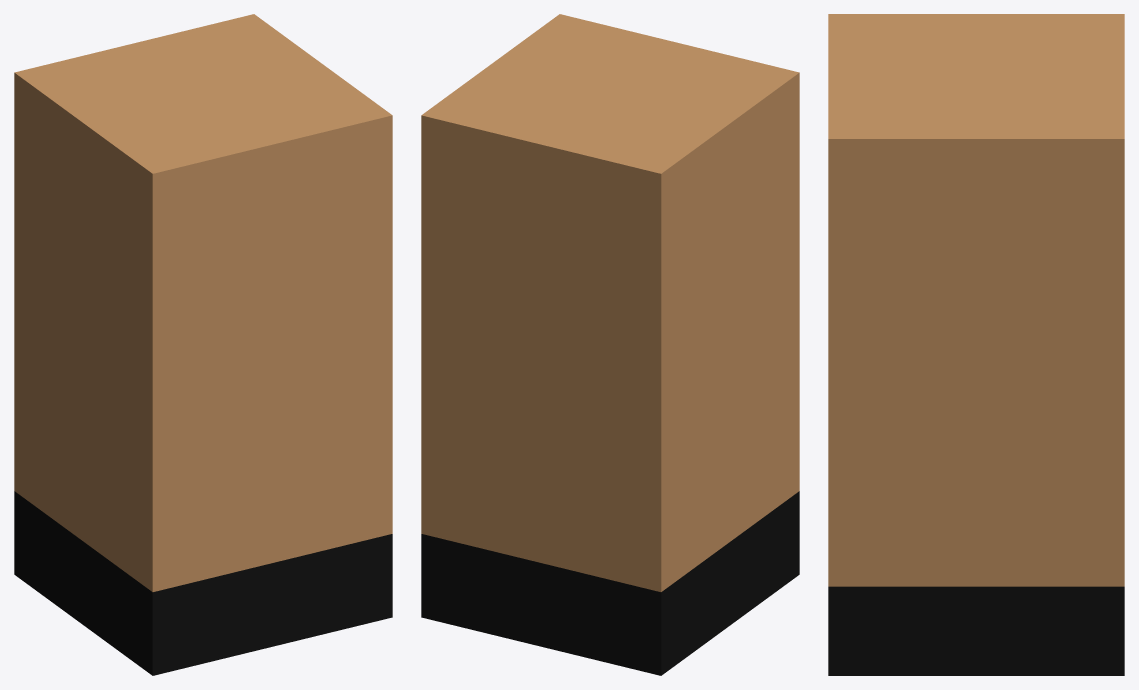
The model's file is BUTTY_LEG_LOWER.obj.
3 renders of one model, left to right at view 1: azimuth 30°, elevation 25°; view 2: azimuth 150°, elevation 25°; view 3: azimuth 270°, elevation 25°, orthographic. The views are drawn at different scales.
Size of the model in its own units: 0.3 by 0.6 by 0.3.
Materials: 1 (1 with a texture image).
